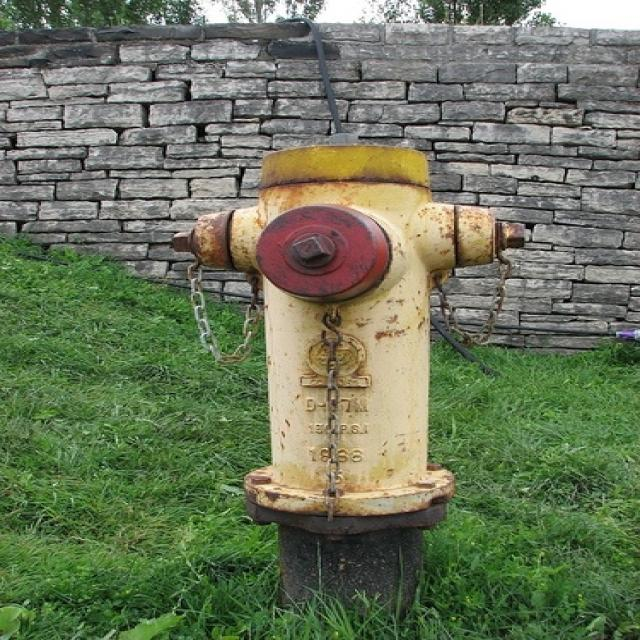fire_hydrant: (171, 117, 561, 566)
